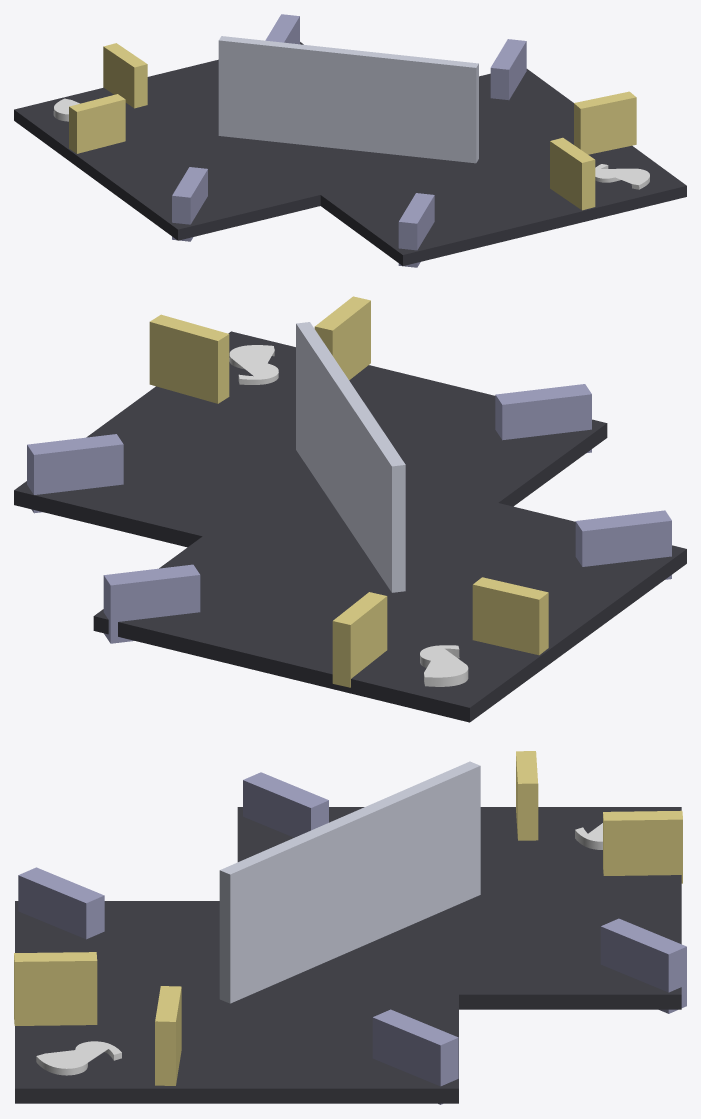
Rendered from map1.fbx.
3 views of the same model, one above another, from view 1: azimuth 30°, elevation 25°; view 2: azimuth 150°, elevation 25°; view 3: azimuth 270°, elevation 25° (orthographic). The views are drawn at different scales.
Parts seen in each view (by area): view 1: pCube2, pCube4, pasted__pasted__pasted__pasted__pCube3 (×3), pasted__pasted__pasted__pCube3 (×3), pasted__pasted__pasted__pasted__pasted__pCube3, pasted__pasted__pCube3, pasted__typeMesh1; view 2: pCube2, pCube4, pasted__pasted__pasted__pCube3 (×3), pasted__pasted__pasted__pasted__pCube3 (×3), pasted__pasted__pCube3, pasted__pasted__pasted__pasted__pasted__pCube3, typeMesh1, pasted__typeMesh1; view 3: pCube2, pCube4, pasted__pasted__pasted__pasted__pCube3 (×3), pasted__pasted__pasted__pCube3 (×3), pasted__pasted__pasted__pasted__pasted__pCube3, pasted__pasted__pCube3, pasted__typeMesh1.
Boxes of the visible parts, x1,y1,x2,y2 form: pCube2: (14,42,686,265); pCube4: (218,36,478,163); pasted__pasted__pasted__pasted__pCube3 (×3): (69,94,595,241); pasted__pasted__pasted__pCube3 (×3): (265,14,636,267); pasted__pasted__pasted__pasted__pasted__pCube3: (103,43,147,108); pasted__pasted__pCube3: (490,39,526,100); pasted__typeMesh1: (595,164,649,189); pCube2: (14,331,686,722); pCube4: (296,322,405,592); pasted__pasted__pasted__pCube3 (×3): (103,314,591,643); pasted__pasted__pasted__pasted__pCube3 (×3): (314,296,671,655); pasted__pasted__pCube3: (27,434,123,513); pasted__pasted__pasted__pasted__pasted__pCube3: (332,592,387,687); typeMesh1: (420,645,468,686); pasted__typeMesh1: (229,345,278,384); pCube2: (15,807,681,1103); pCube4: (219,761,480,1003); pasted__pasted__pasted__pasted__pCube3 (×3): (14,751,538,1025); pasted__pasted__pasted__pCube3 (×3): (18,867,686,1085); pasted__pasted__pasted__pasted__pasted__pCube3: (603,810,682,883); pasted__pasted__pCube3: (372,1009,458,1104); pasted__typeMesh1: (36,1041,121,1075).
Size of the model in its own units: 25.74 by 6.47 by 25.87.
